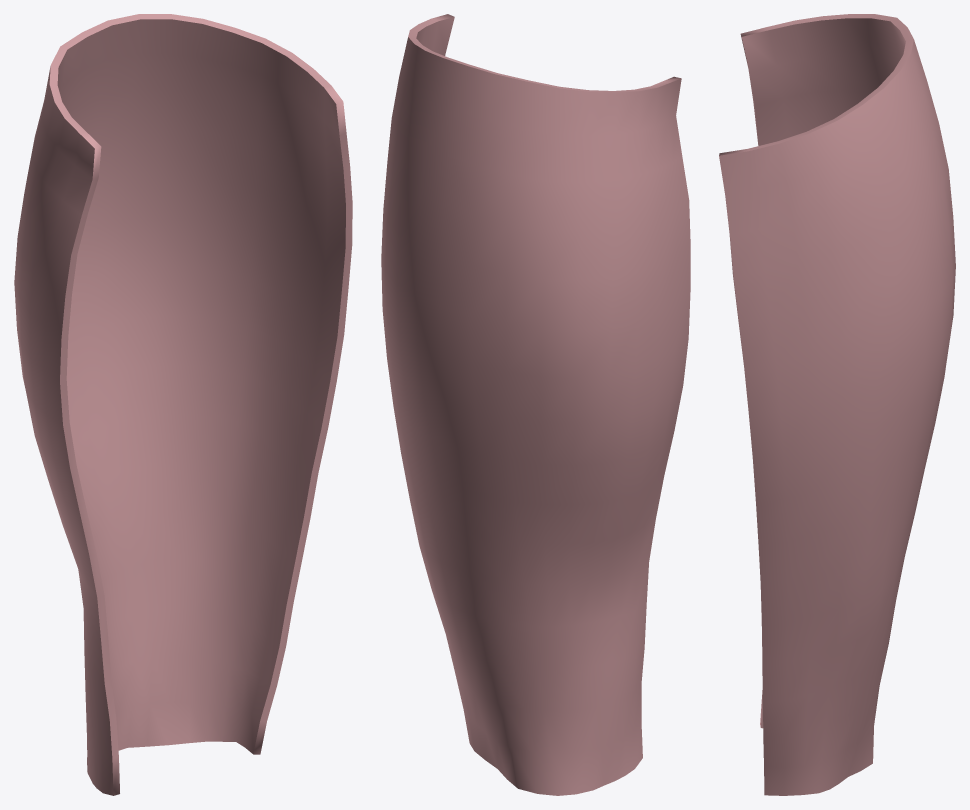
The picture shows the model from 3 angles, left to right: view 1: azimuth 30°, elevation 25°; view 2: azimuth 150°, elevation 25°; view 3: azimuth 270°, elevation 25°; orthographic projection. The views are drawn at different scales.
Parts seen in each view (by area): view 1: ZA_b6c91c8f6f2c57e7; view 2: ZA_b6c91c8f6f2c57e7; view 3: ZA_b6c91c8f6f2c57e7.
Boxes of the visible parts, x1=… form: ZA_b6c91c8f6f2c57e7: x1=14, y1=14, x2=352, y2=795; ZA_b6c91c8f6f2c57e7: x1=381, y1=14, x2=690, y2=795; ZA_b6c91c8f6f2c57e7: x1=719, y1=14, x2=955, y2=795.
Bounding box in the file's own units: 0.1188 × 0.2892 × 0.0853.
